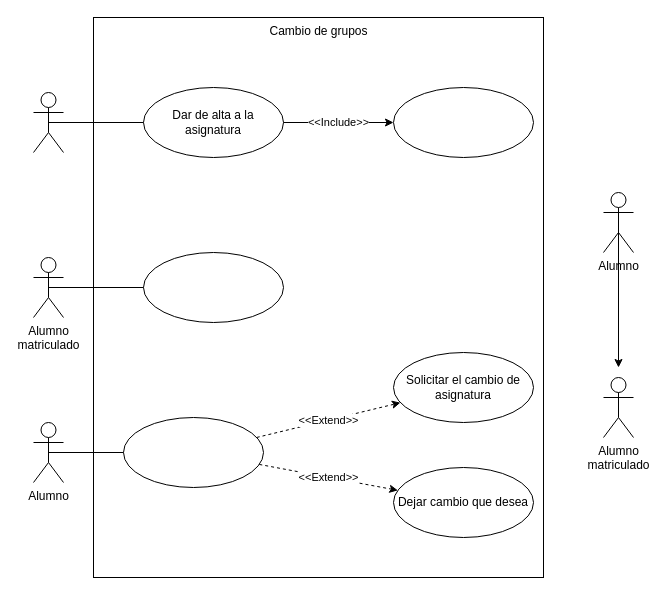
Image size: 666x595. Some labels were removed from this diagram. The shapes that lost their labels are listed below. From the top down, each one's centre as x and y in pixels, then its label:
At pixel 48 122: "Profesor".
At pixel 463 122: "Proporcionar un listado de alumnos".
At pixel 213 287: "Consultar y publicitar cambios de la asignatura".
At pixel 193 452: "Consultar peticiones de cambio".
